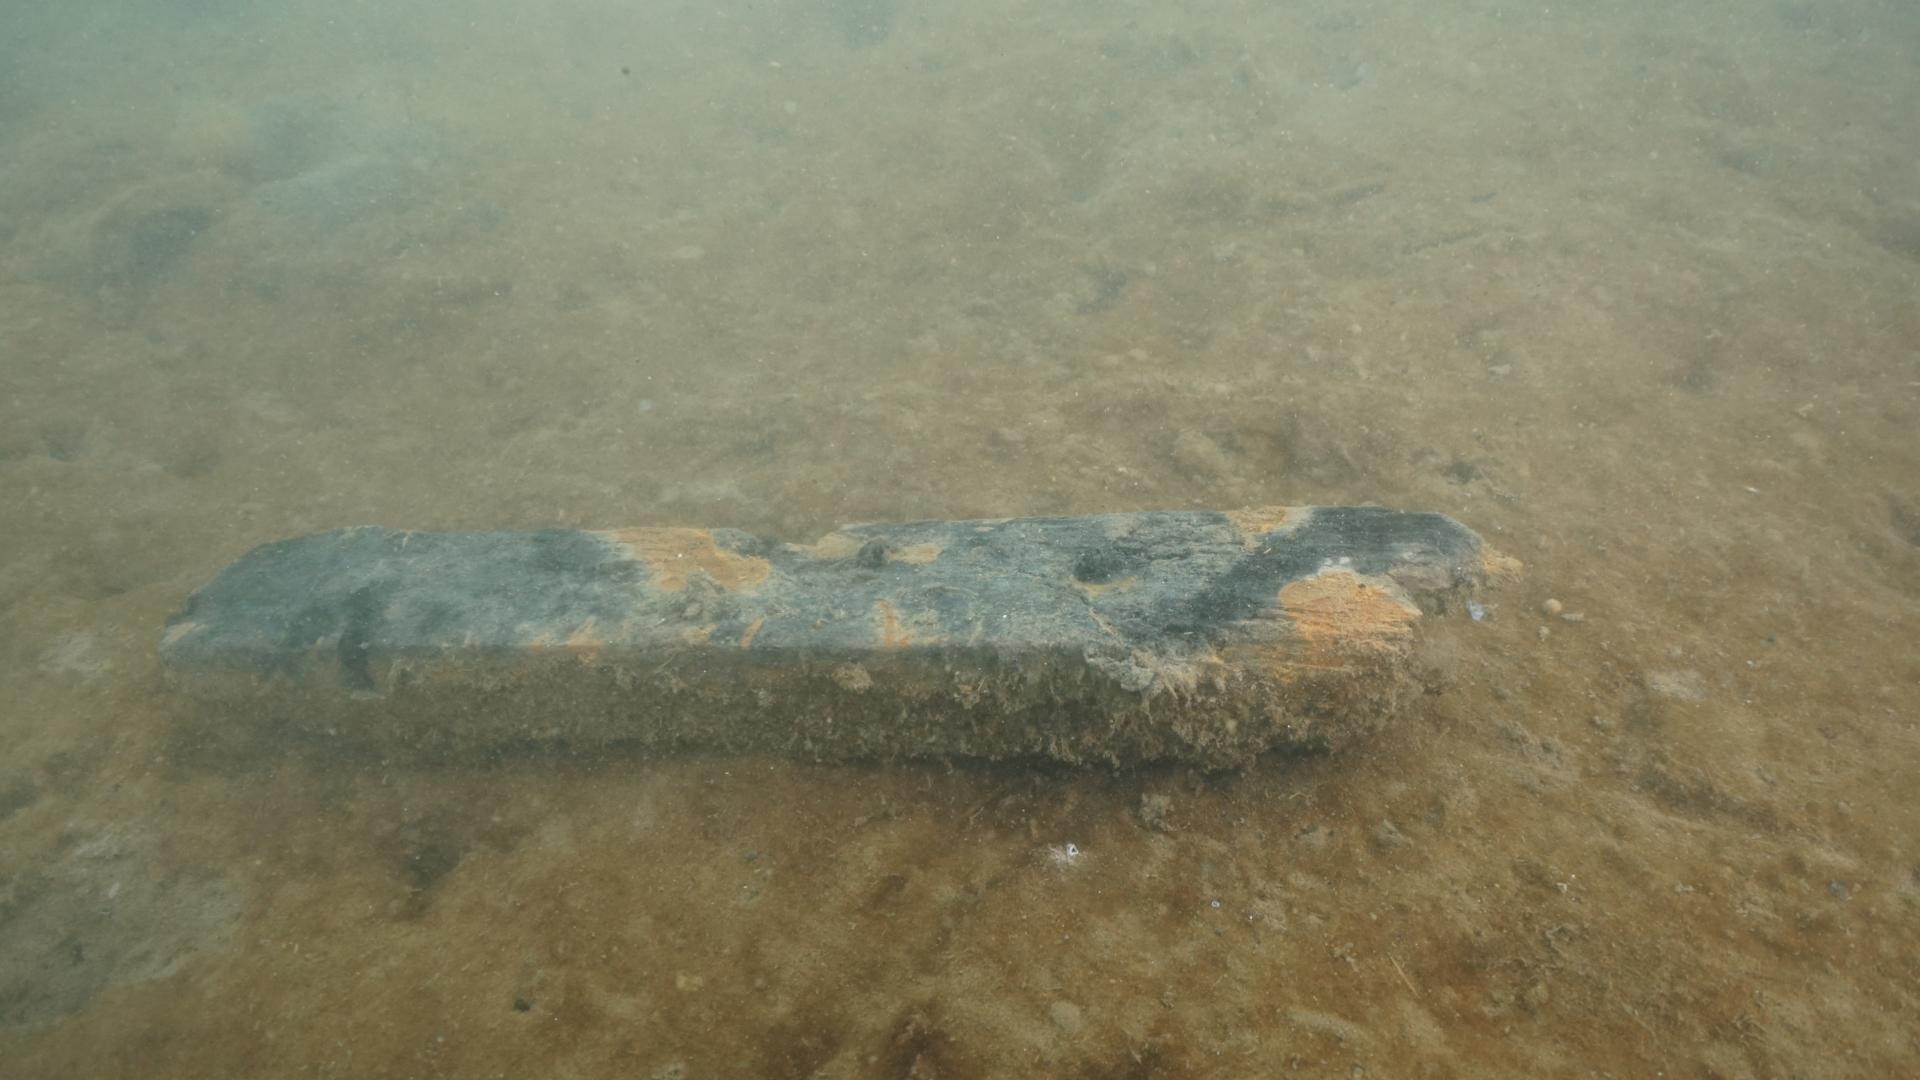wood: (142, 496, 1520, 775)
